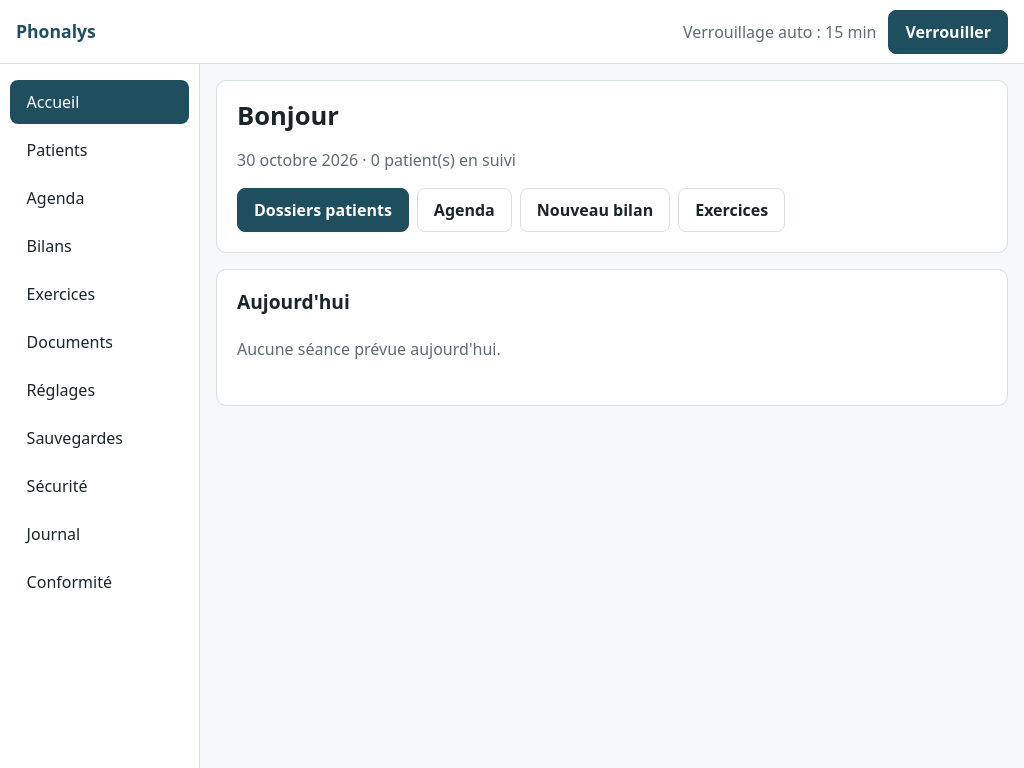
application › un exercice se lance et se termine
Step 1. Click the 2nd button "Exercices" → coordinates (100, 294), box [10,272,189,316]
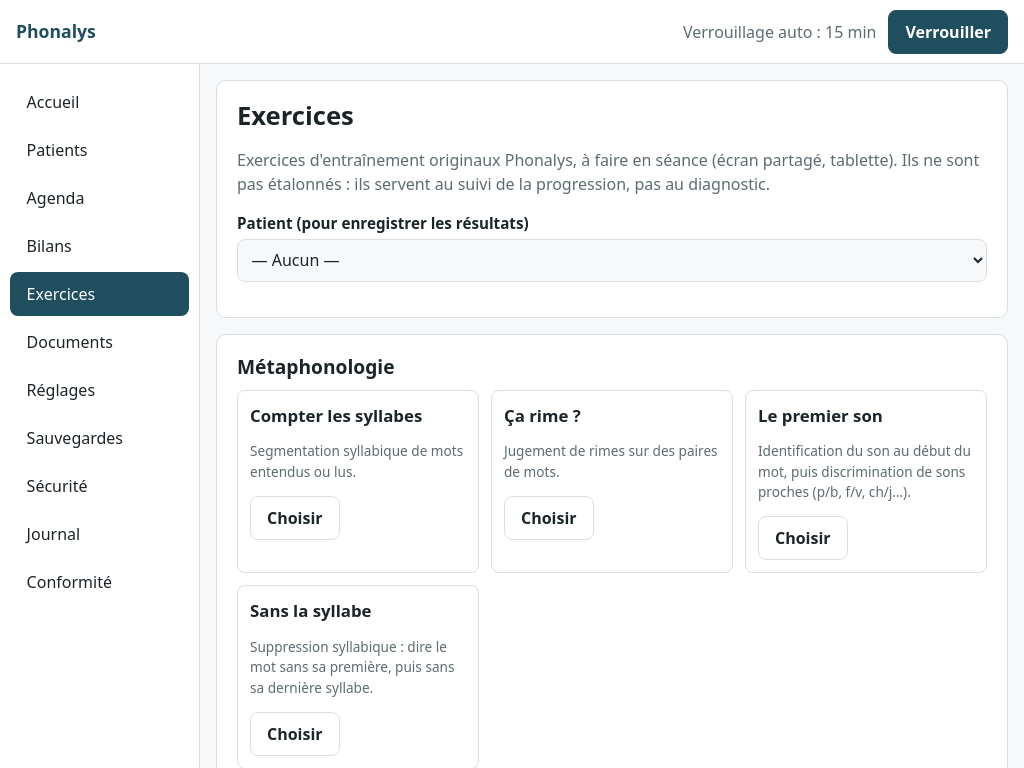
Step 2. Click the button "Choisir" below "Ça rime ?" → coordinates (549, 518), box [504,496,594,540]
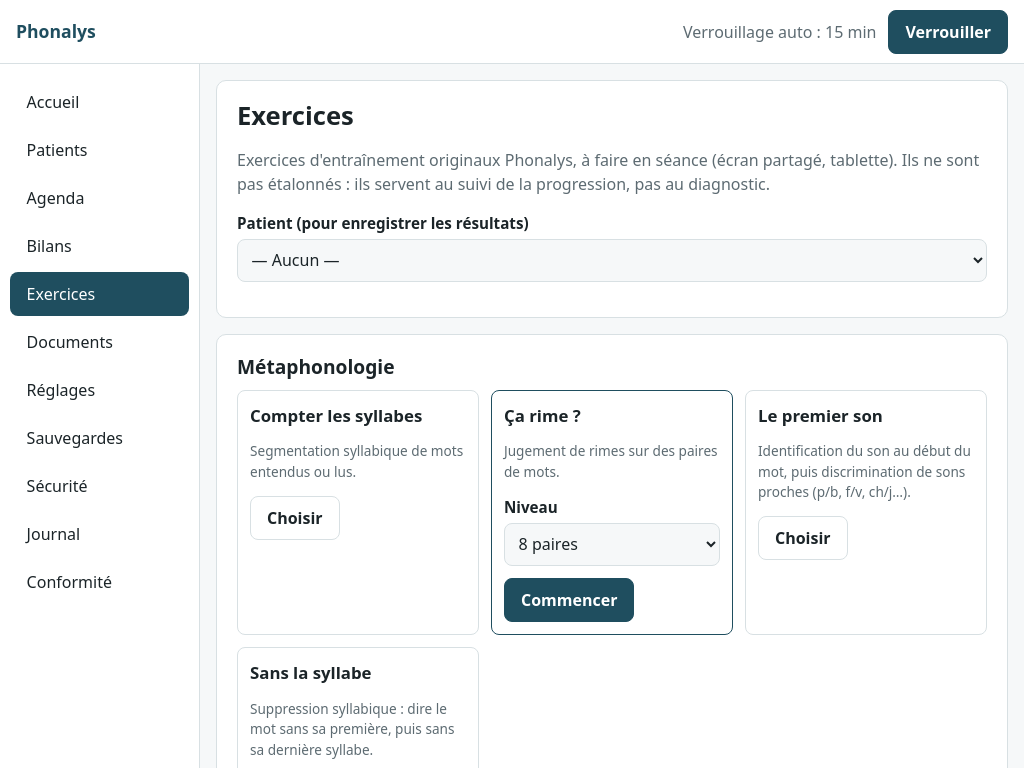
Step 3. Click the button "Commencer" → coordinates (569, 600), box [504,578,634,622]
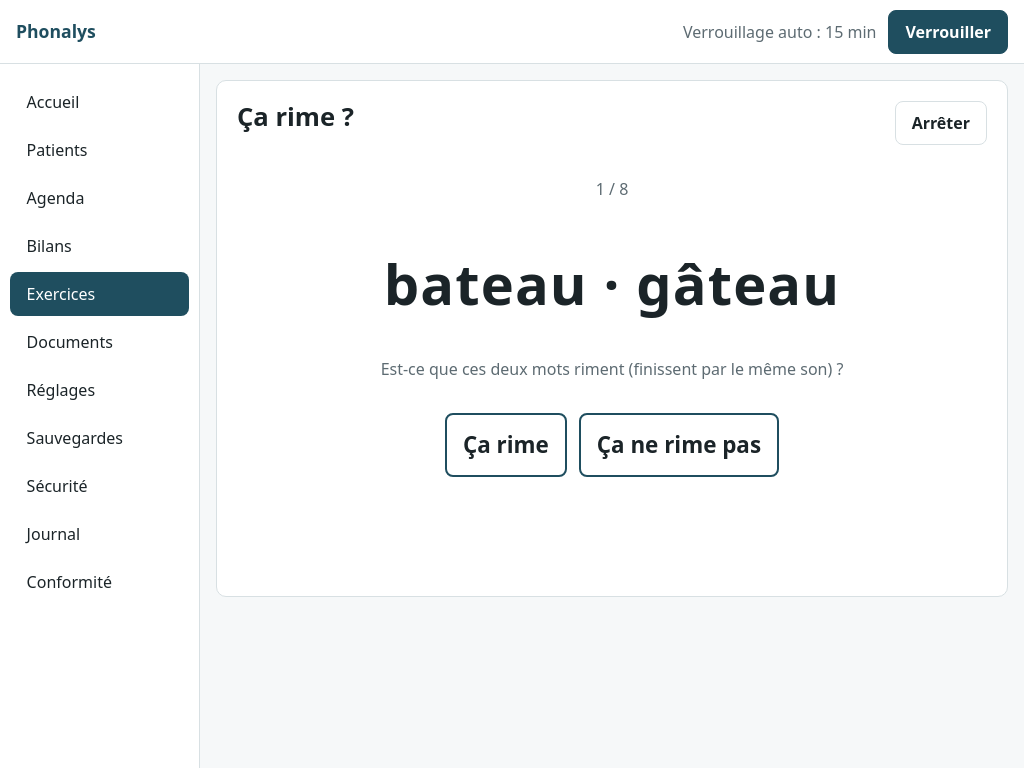
Check: the text "1 / 8" is shown, box [596,177,628,201]
Check: the button "Ça rime" is shown, box [445,413,567,477]
